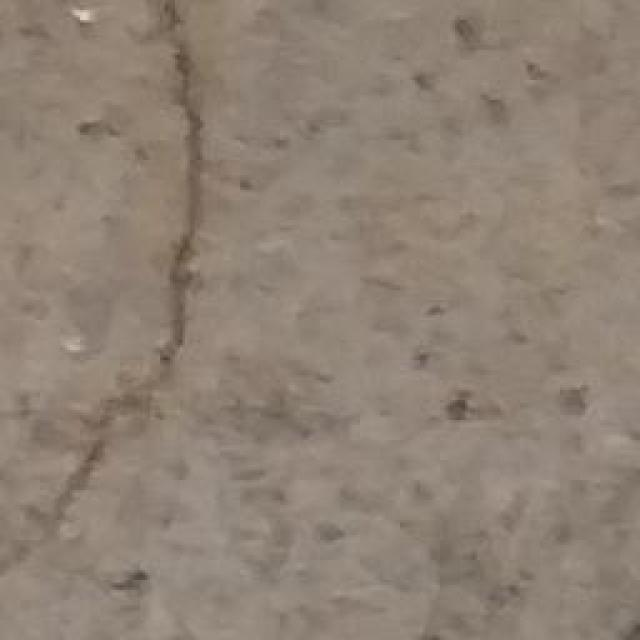Longitudinal: (0, 0, 217, 602)
